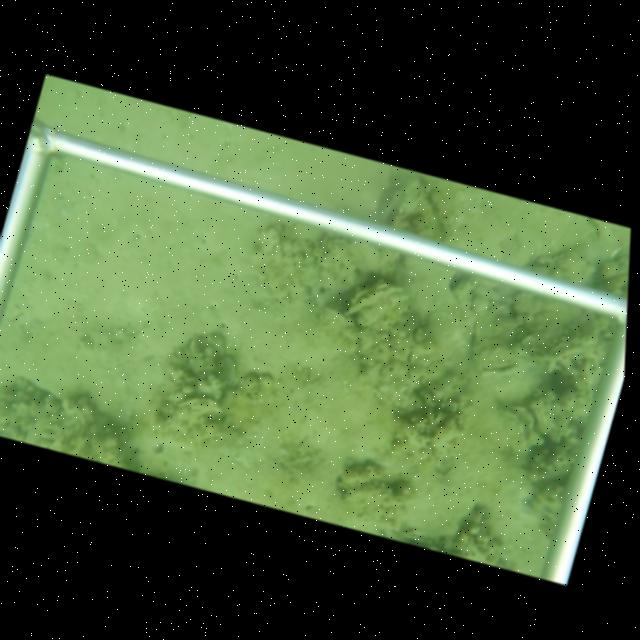Oyster-Closed: (168, 393, 223, 414)
Oyster-Open: (344, 281, 402, 317)
